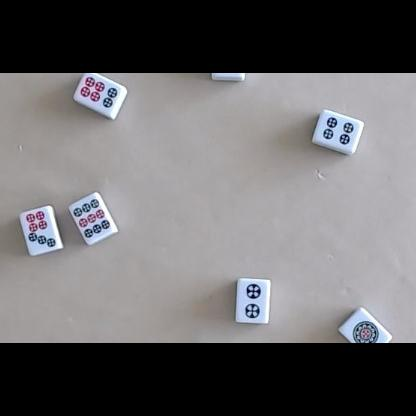1p: (352, 320, 379, 343)
2p: (245, 283, 262, 319)
4p: (323, 116, 355, 145)
6p: (80, 77, 118, 109)
7p: (26, 211, 57, 248)
9p: (73, 199, 110, 238)
